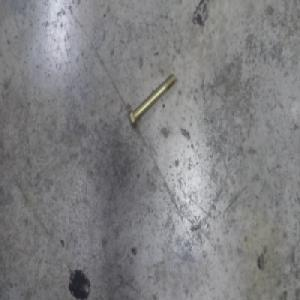Bolt: (127, 71, 177, 129)
